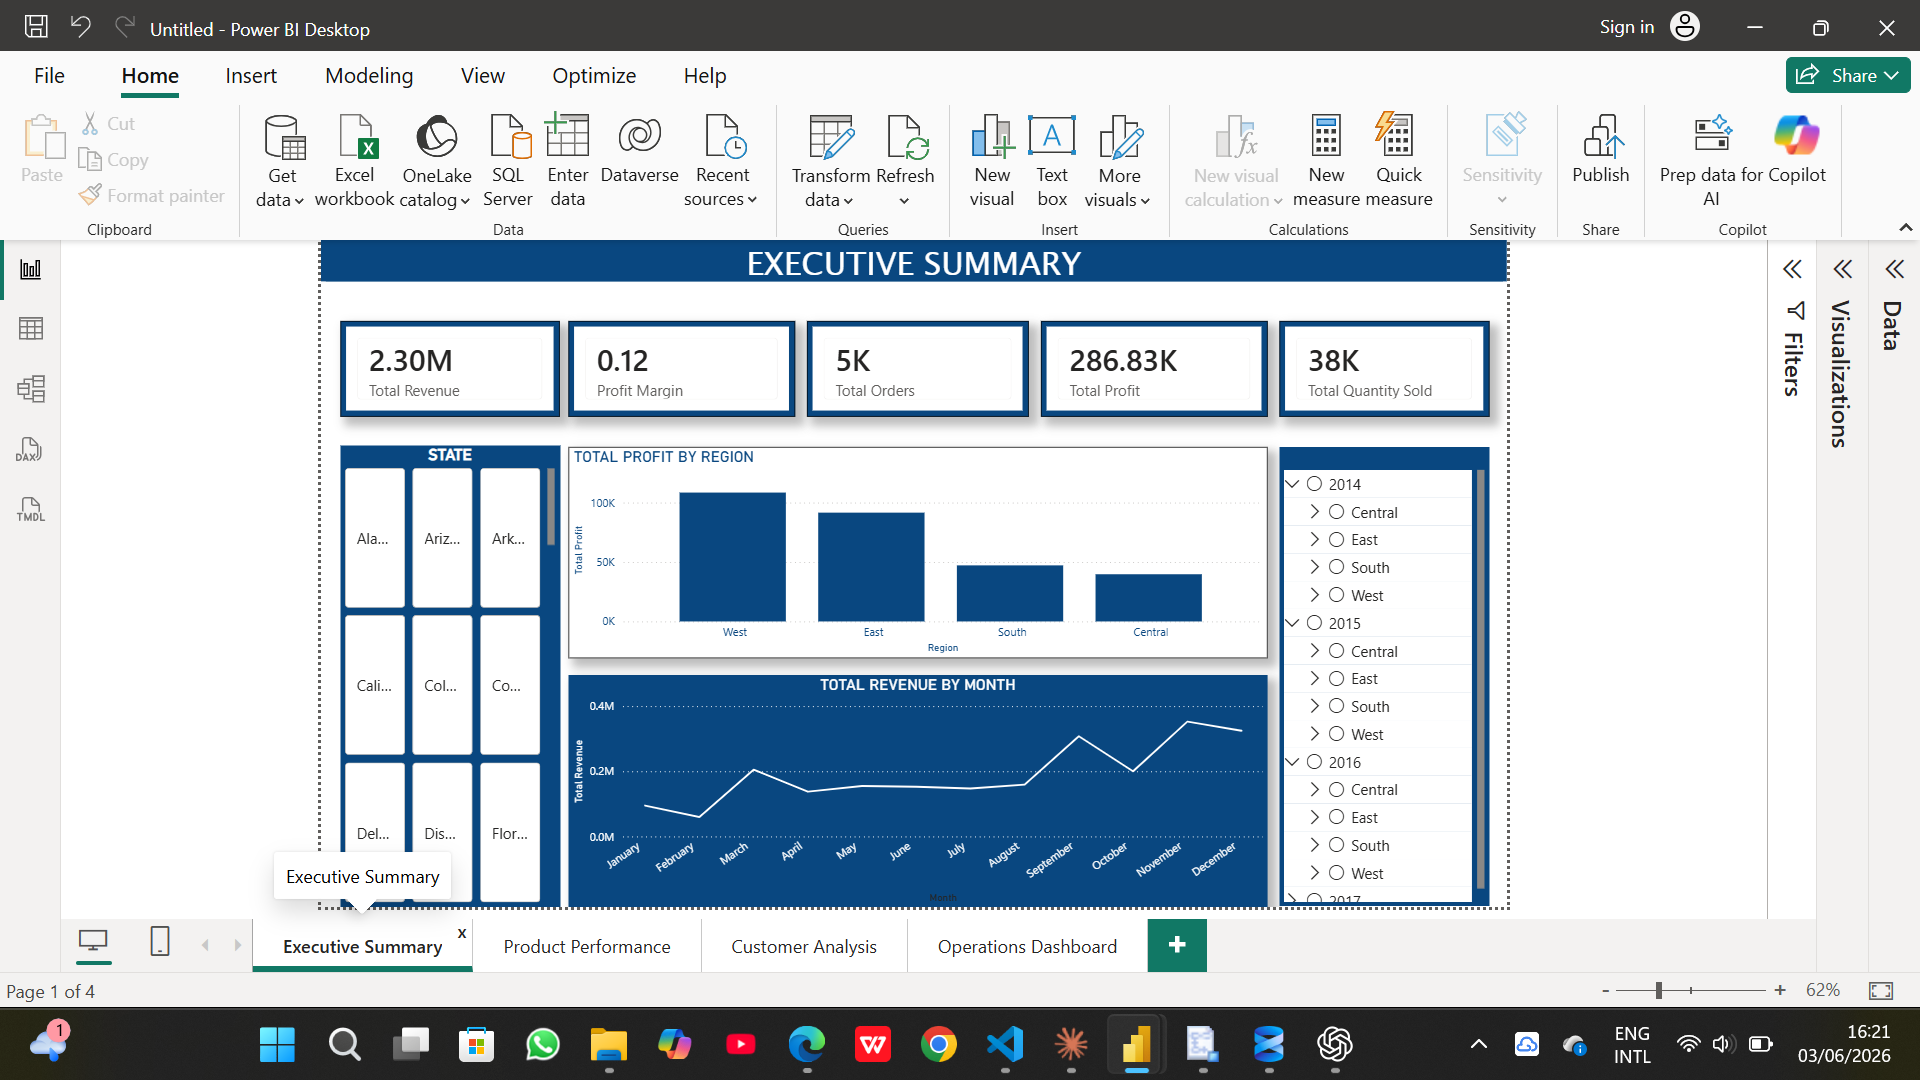

The dashboard page shown, as its layout file describes it:
{"tool":"powerbi","page":{"name":"Executive Summary","canvas":[1280,720],"ordinal":0},"visuals":[{"type":"cardVisual","fields":{"Data":["superstore_clean.Total Revenue"]},"box":[21,87.4,236.4,103.6],"z":0},{"type":"textbox","title":"EXECUTIVE SUMMARY","box":[0,0,1280.2,44.8],"z":1000},{"type":"lineChart","title":"TOTAL REVENUE BY MONTH","fields":{"Y":["superstore_clean.Total Revenue"],"Category":["superstore_clean.Order_Date.Variation.Date Hierarchy.Month"]},"box":[267.2,469.6,754.6,251],"z":2000},{"type":"clusteredColumnChart","title":"TOTAL PROFIT BY REGION","fields":{"Category":["superstore_clean.Region"],"Y":["superstore_clean.Total Profit"]},"box":[267.2,223.5,754.6,228.3],"z":3000},{"type":"cardVisual","fields":{"Data":["superstore_clean.Profit Margin"]},"box":[267.2,87.4,244.5,103.6],"z":4000},{"type":"cardVisual","fields":{"Data":["superstore_clean.Total Orders"]},"box":[524.6,87.4,239.6,103.6],"z":5000},{"type":"cardVisual","fields":{"Data":["superstore_clean.Total Profit"]},"box":[777.2,87.4,244.5,103.6],"z":6000},{"type":"cardVisual","fields":{"Data":["superstore_clean.Total Quantity Sold"]},"box":[1034.7,87.4,226.7,103.6],"z":7000},{"type":"listSlicer","title":"YEAR AND REGION","fields":{"Values":["superstore_clean.Order_Date.Variation.Date Hierarchy.Year","superstore_clean.Region","superstore_clean.Segment"]},"box":[1034.7,223.5,226.7,495.5],"z":8000},{"type":"advancedSlicerVisual","title":"STATE","fields":{"Values":["superstore_clean.State"]},"box":[21,221.8,236.4,498.7],"z":9000}]}

Visuals, with their boxes on the page's 1280x720 design canvas (x1, y1, x2, y2). These are canvas units, not pixel positions in the 1920x1080 screenshot, which may show the page scaled, cropped or inside an application window:
cardVisual - superstore_clean.Total Revenue: x1=21 y1=87 x2=257 y2=191
"EXECUTIVE SUMMARY" textbox: x1=0 y1=0 x2=1280 y2=45
"TOTAL REVENUE BY MONTH" lineChart: x1=267 y1=470 x2=1022 y2=721
"TOTAL PROFIT BY REGION" clusteredColumnChart: x1=267 y1=224 x2=1022 y2=452
cardVisual - superstore_clean.Profit Margin: x1=267 y1=87 x2=512 y2=191
cardVisual - superstore_clean.Total Orders: x1=525 y1=87 x2=764 y2=191
cardVisual - superstore_clean.Total Profit: x1=777 y1=87 x2=1022 y2=191
cardVisual - superstore_clean.Total Quantity Sold: x1=1035 y1=87 x2=1261 y2=191
"YEAR AND REGION" listSlicer: x1=1035 y1=224 x2=1261 y2=719
"STATE" advancedSlicerVisual: x1=21 y1=222 x2=257 y2=720
